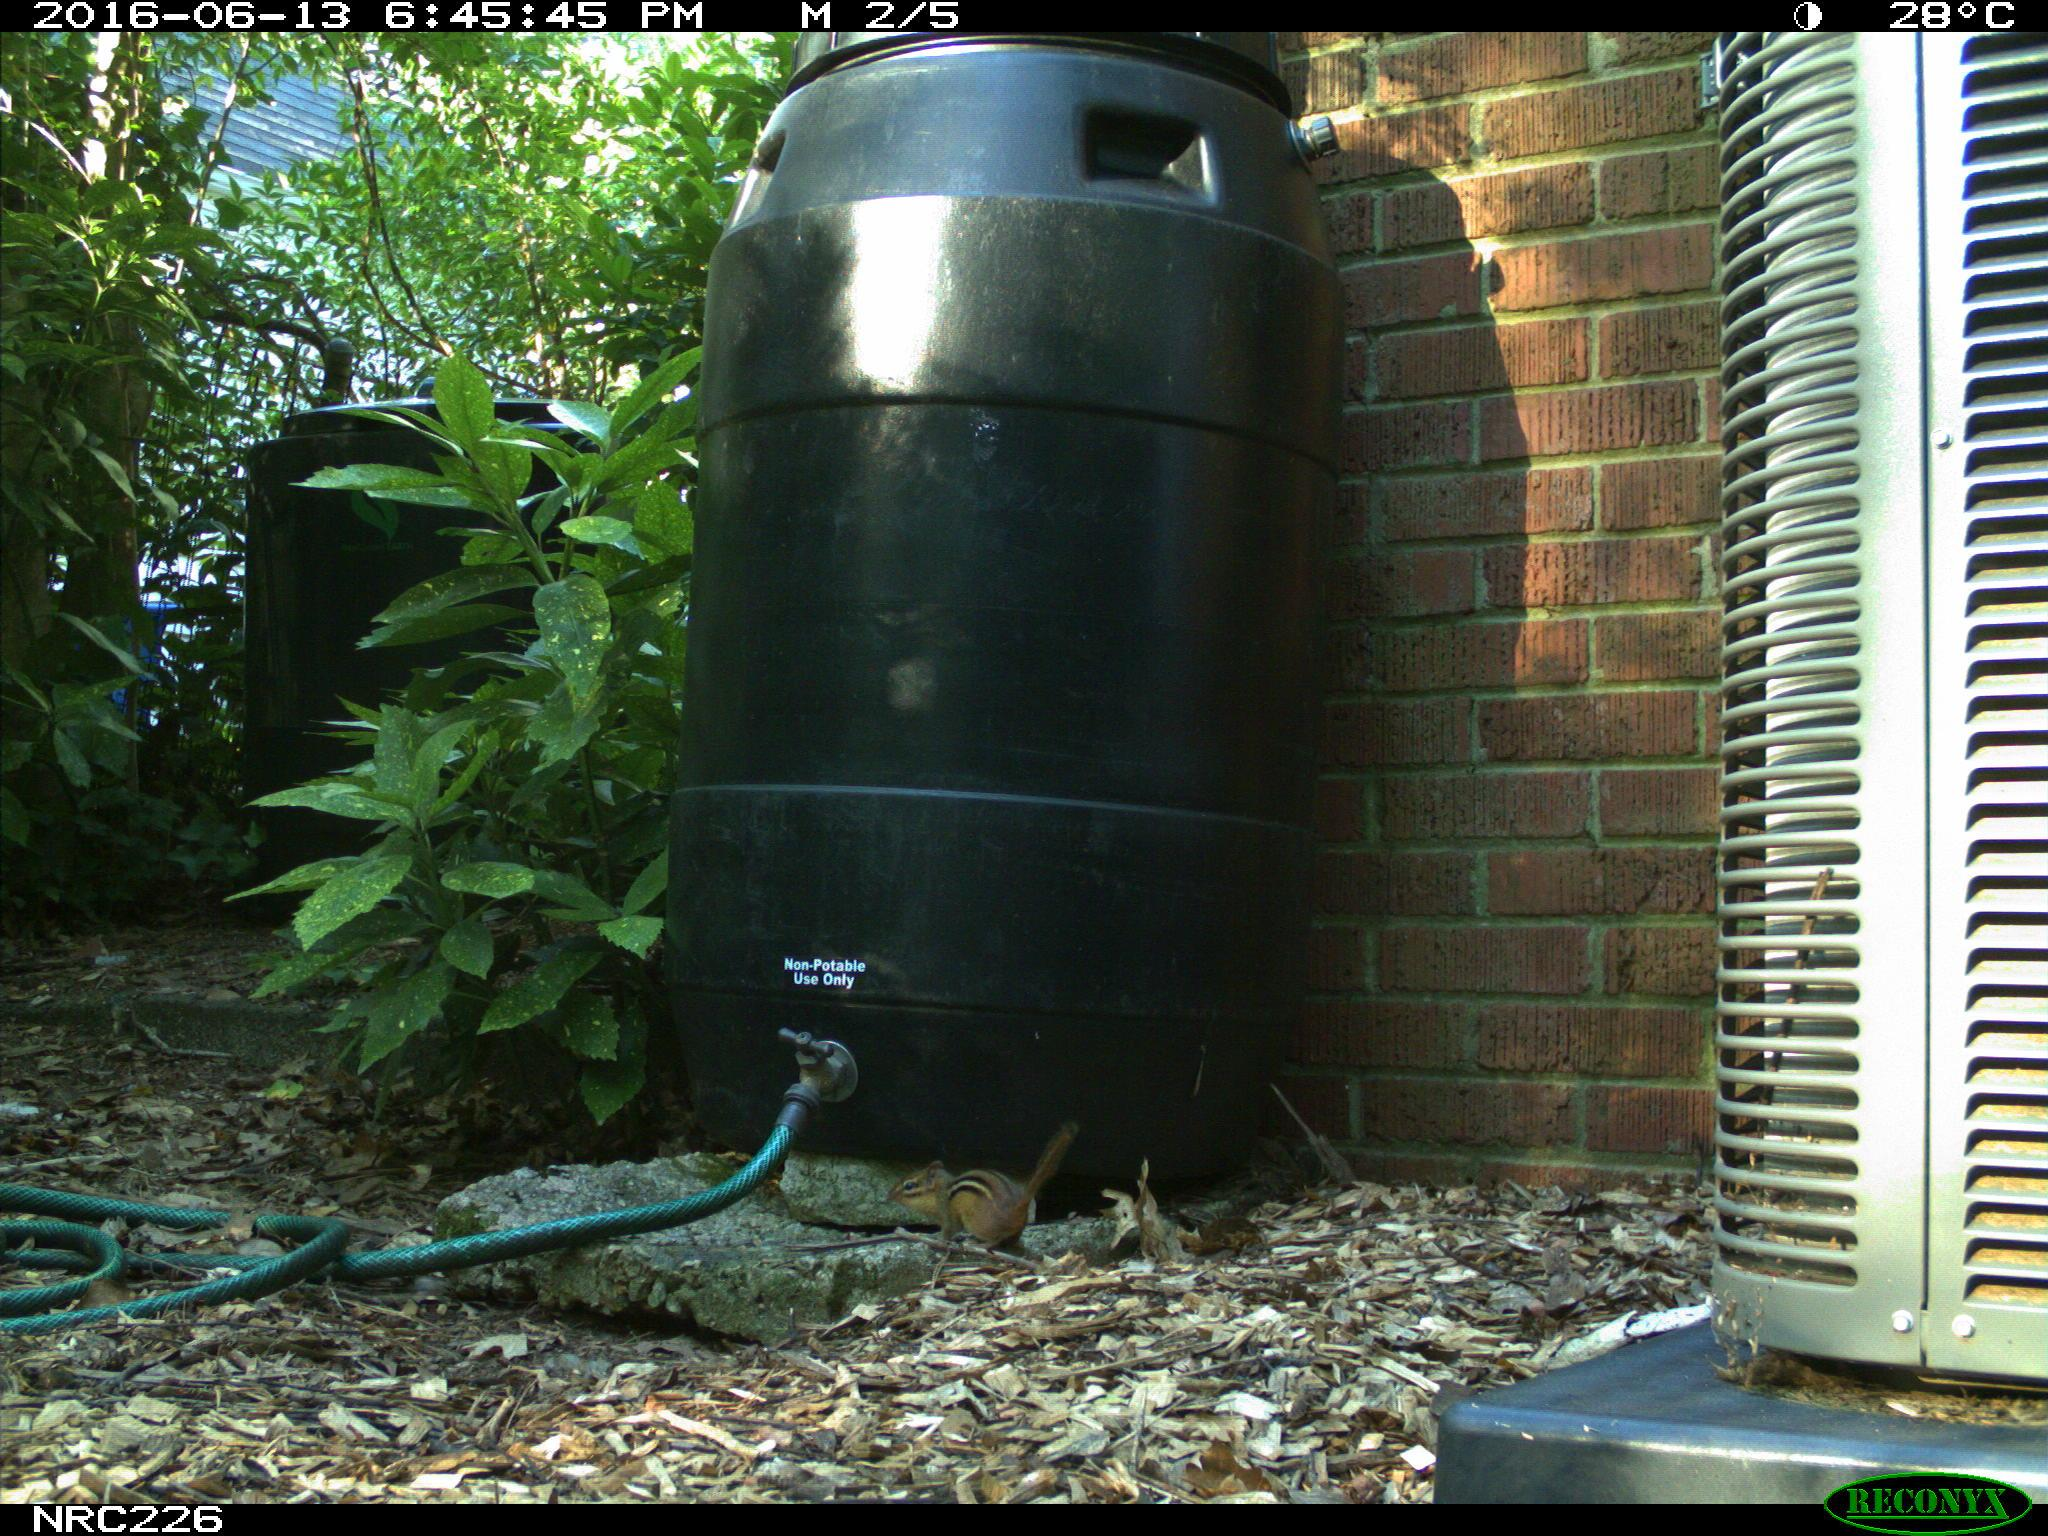Animal: (892, 1115, 1076, 1249)
